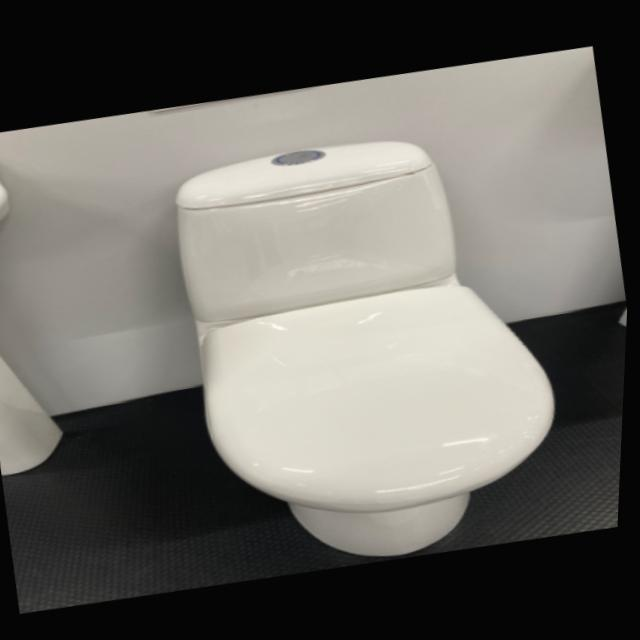toilet: (152, 106, 590, 587)
